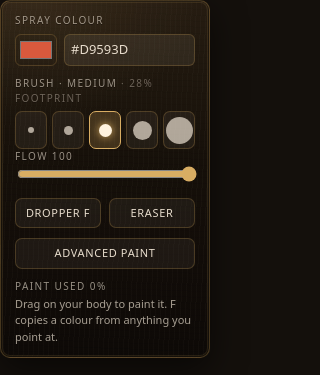
Test: paint panel material channels › offers five visibly distinct brush presets instead of false precision
Click the button named "Massive brush" at (179, 130), box [163, 111, 195, 149]
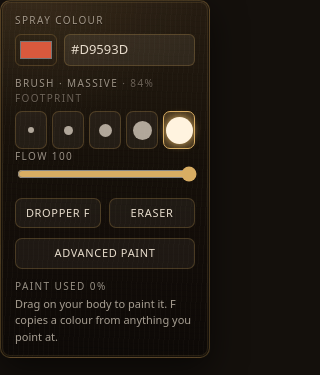
Check: the element showing "Brush · Massive · 84% footprint" is shown, box [15, 76, 154, 105]
